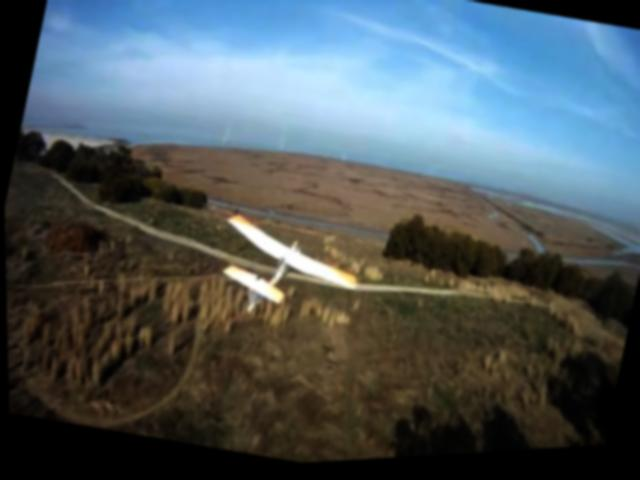uav: (199, 199, 374, 348)
